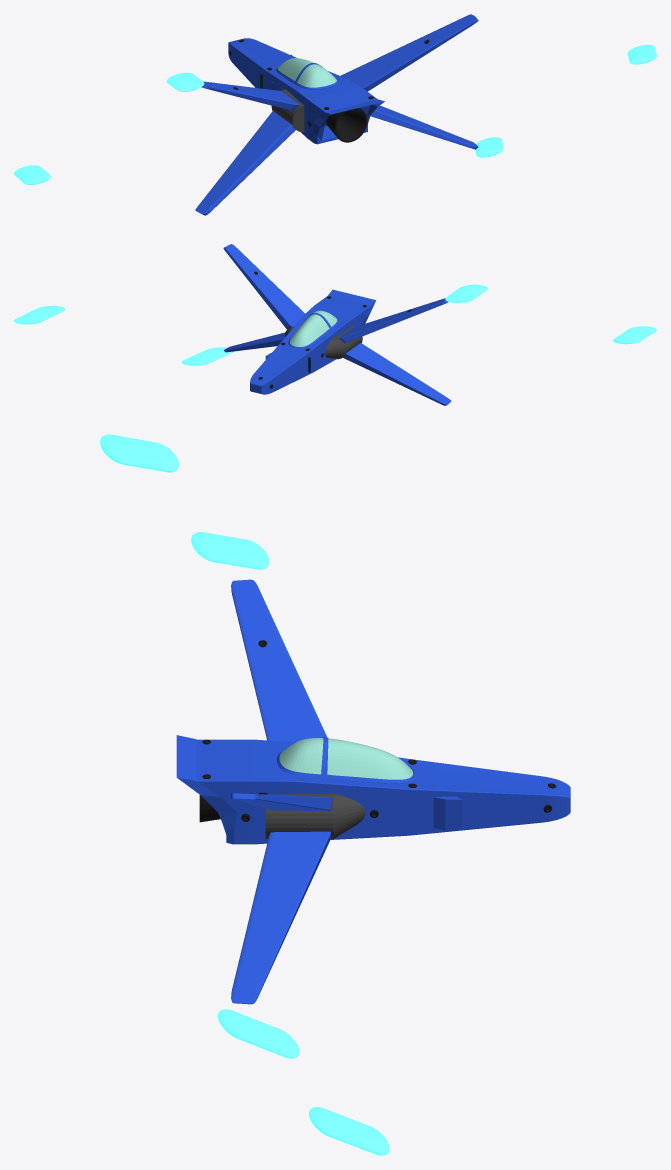
The model's file is fighterGen7.glb.
The picture shows the model from 3 angles, top to bottom: view 1: azimuth 30°, elevation 25°; view 2: azimuth 150°, elevation 25°; view 3: azimuth 270°, elevation 25°; orthographic projection. The views are drawn at different scales.
Parts seen in each view (by area): view 1: Wing, Hull, Gunpod, Cockpit, Main Thruster, Wing Mounts; view 2: Wing, Hull, Gunpod, Cockpit, Wing Mounts, Cockpit Thing; view 3: Hull, Wing, Gunpod, Cockpit, Wing Mounts.
Part boxes in pixels (left/top/right/bottom): Wing: left=195, top=14, right=478, bottom=215; Hull: left=228, top=38, right=384, bottom=144; Gunpod: left=14, top=44, right=656, bottom=184; Cockpit: left=277, top=58, right=336, bottom=87; Main Thruster: left=325, top=108, right=367, bottom=142; Wing Mounts: left=271, top=89, right=304, bottom=132; Wing: left=223, top=244, right=451, bottom=405; Hull: left=250, top=289, right=375, bottom=394; Gunpod: left=14, top=284, right=656, bottom=365; Cockpit: left=290, top=310, right=337, bottom=346; Wing Mounts: left=285, top=325, right=362, bottom=359; Cockpit Thing: left=288, top=313, right=338, bottom=348; Hull: left=176, top=735, right=570, bottom=844; Wing: left=231, top=579, right=332, bottom=1004; Gunpod: left=100, top=434, right=389, bottom=1155; Cockpit: left=279, top=738, right=413, bottom=779; Wing Mounts: left=265, top=793, right=365, bottom=839.
Size of the model in its own units: 47.09 by 10 by 16.72.
